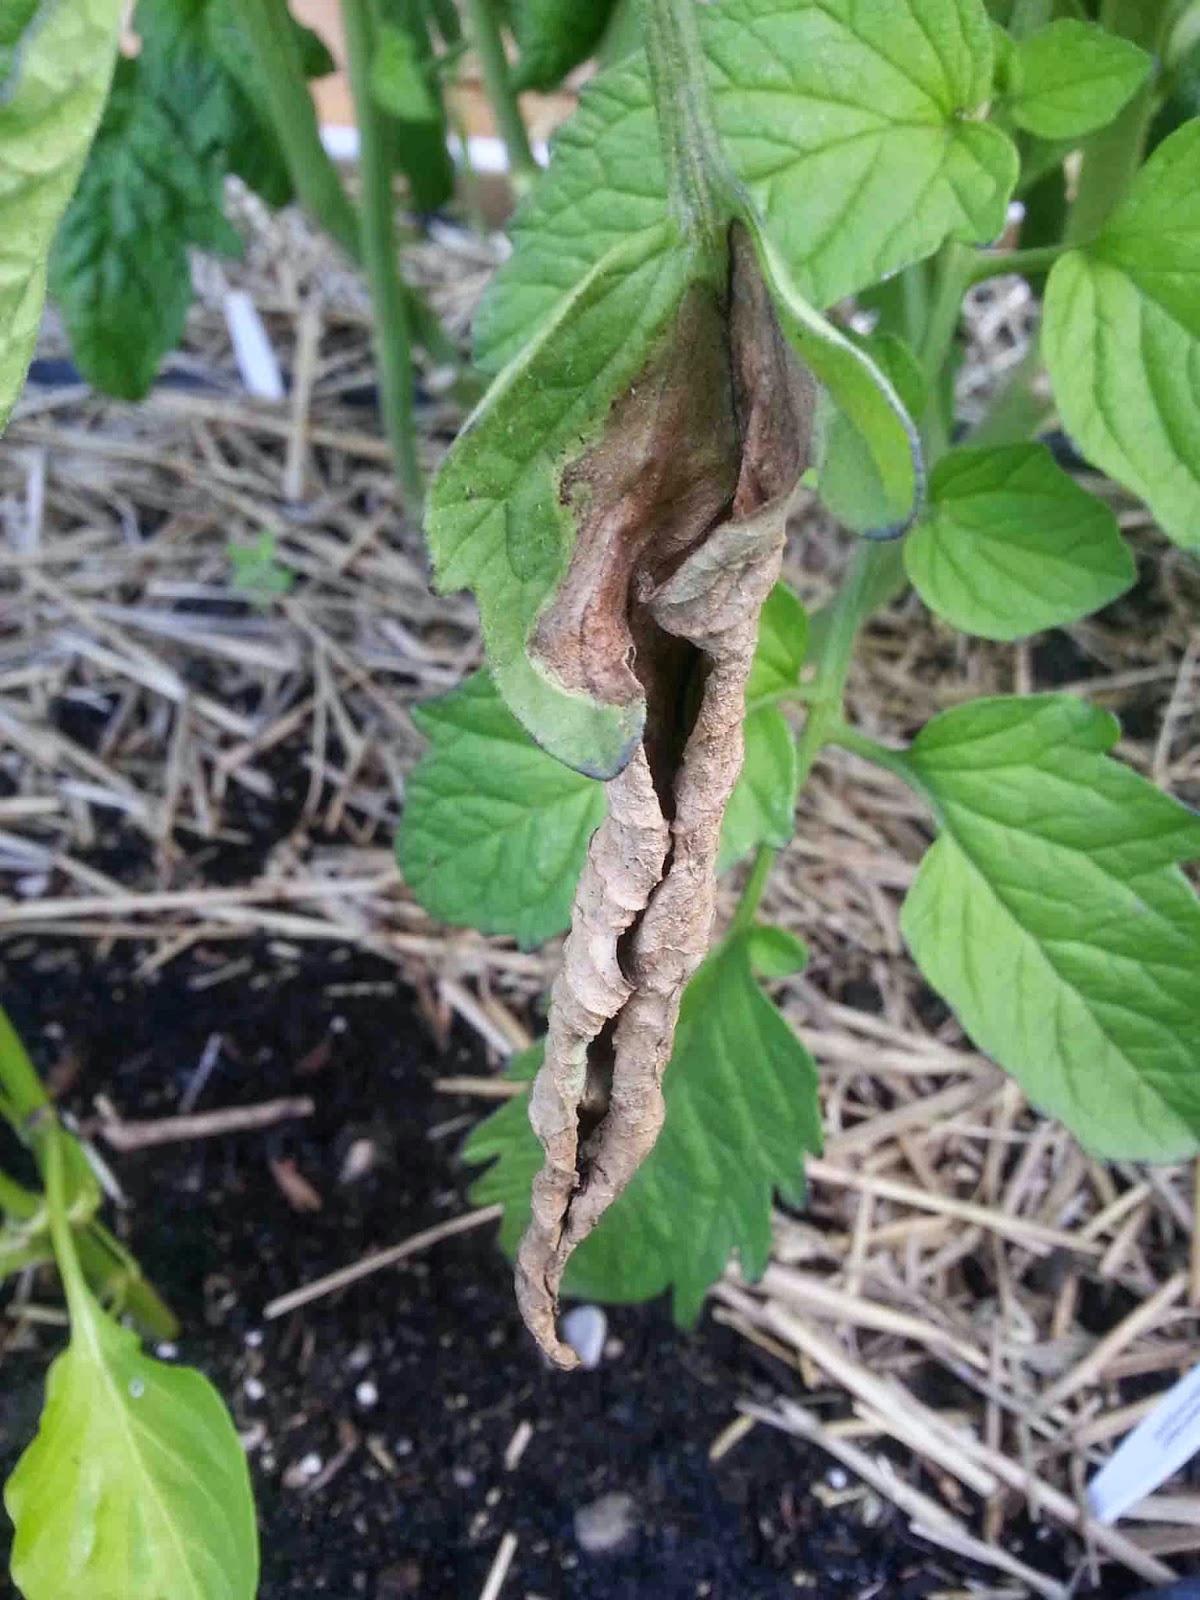Tomato leaf late blight: (430, 163, 897, 1363)
